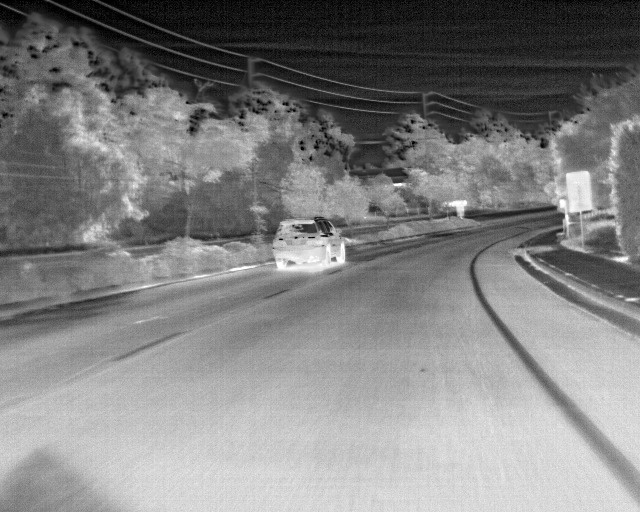vehicle: (273, 215, 347, 275)
